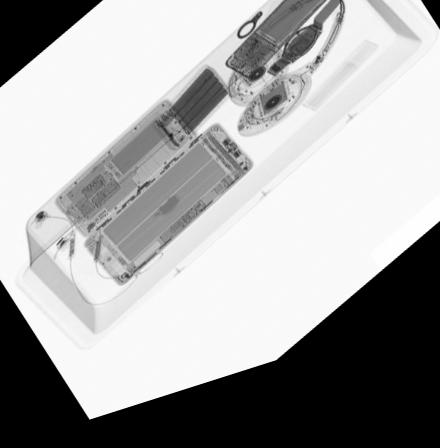Powerbank: (151, 79, 231, 162)
